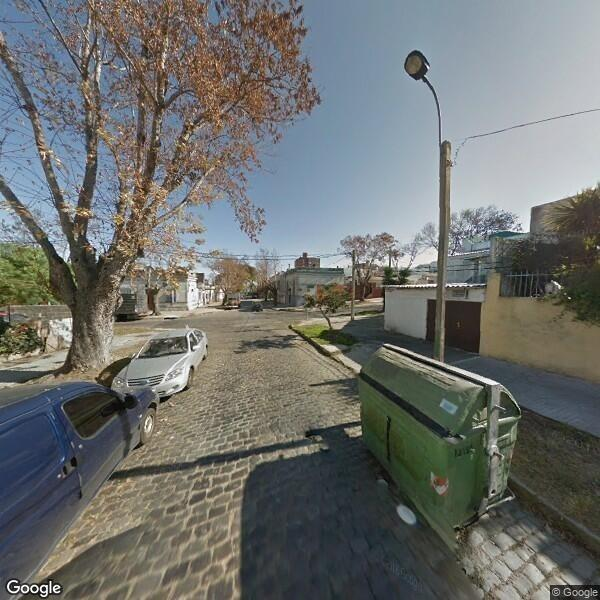Trash: (358, 341, 523, 539)
